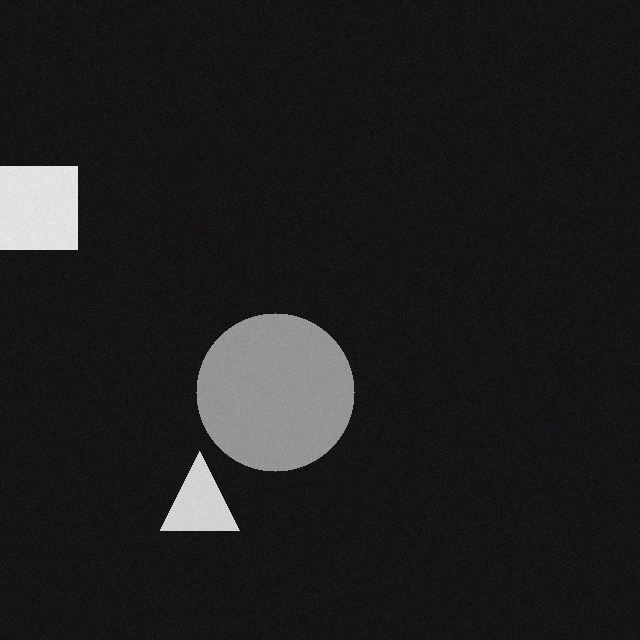circle: (205, 310, 363, 468)
square: (3, 163, 86, 246)
triangle: (169, 448, 248, 527)
